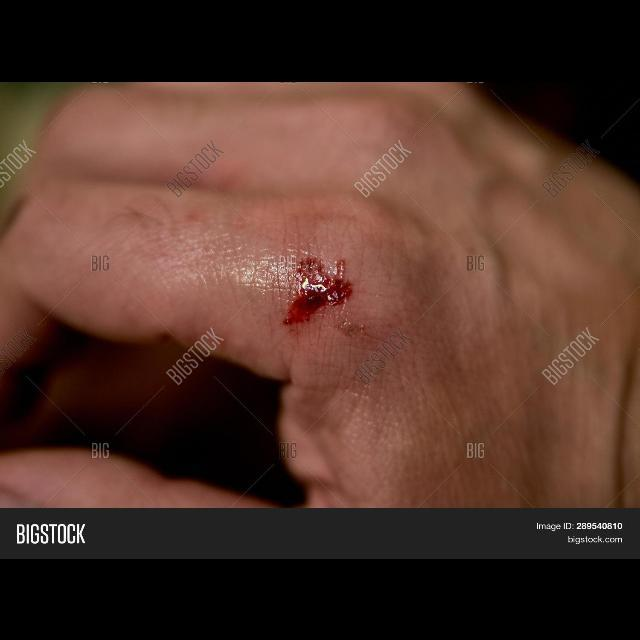blood: (284, 256, 352, 324)
